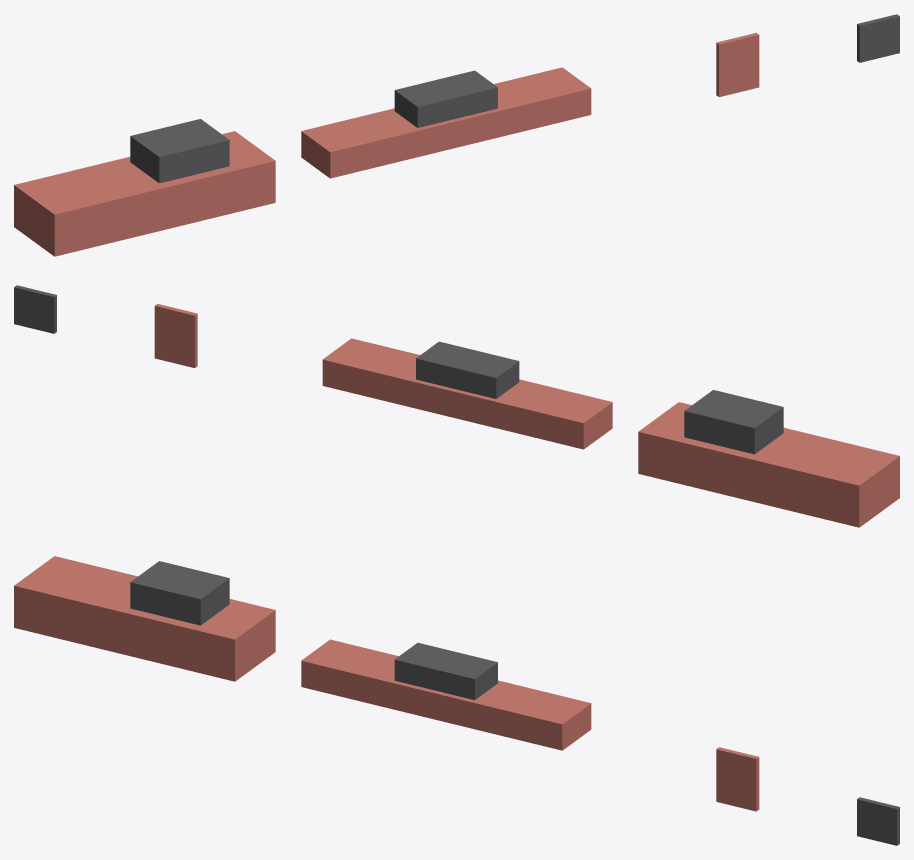
File: skiff.glb
3 renders of one model, top to bottom at view 1: azimuth 30°, elevation 25°; view 2: azimuth 150°, elevation 25°; view 3: azimuth 330°, elevation 25°, orthographic.
Visible parts, largest first — view 1: SKIFF_HULL_A, SKIFF_HULL_B, FIN_A, FIN_B; view 2: SKIFF_HULL_A, SKIFF_HULL_B, FIN_A, FIN_B; view 3: SKIFF_HULL_A, SKIFF_HULL_B, FIN_A, FIN_B.
Boxes of the visible parts, left/top/right/bottom form: SKIFF_HULL_A: left=14, top=119, right=275, bottom=256; SKIFF_HULL_B: left=301, top=67, right=591, bottom=178; FIN_A: left=716, top=32, right=759, bottom=97; FIN_B: left=857, top=14, right=899, bottom=62; SKIFF_HULL_A: left=638, top=390, right=899, bottom=527; SKIFF_HULL_B: left=322, top=338, right=612, bottom=449; FIN_A: left=154, top=303, right=197, bottom=368; FIN_B: left=14, top=285, right=56, bottom=333; SKIFF_HULL_A: left=14, top=556, right=275, bottom=681; SKIFF_HULL_B: left=301, top=639, right=591, bottom=750; FIN_A: left=716, top=747, right=759, bottom=811; FIN_B: left=857, top=797, right=899, bottom=845.
Bounding box in the file's own units: 17.2 × 1.7 × 1.4.
